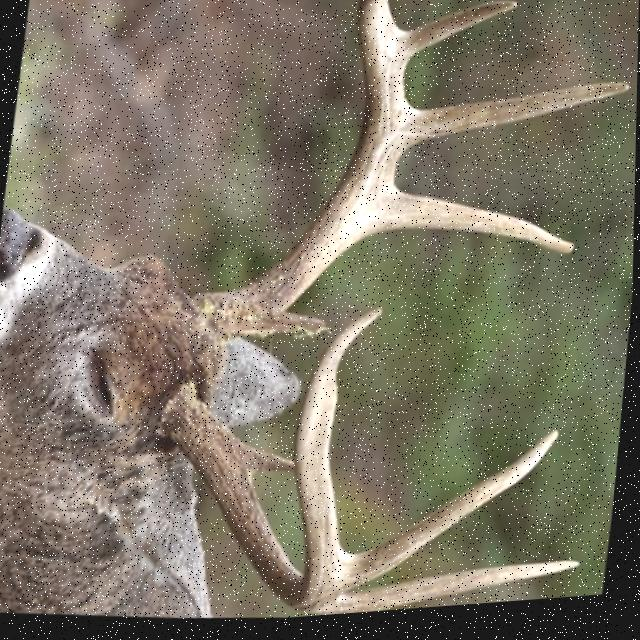L-F: (192, 0, 401, 338)
L-G1: (245, 314, 330, 342), (248, 447, 297, 476)
L-G2: (368, 188, 576, 262), (313, 568, 584, 620)
L-G3: (347, 436, 561, 595), (405, 90, 631, 155)
L-G4: (399, 6, 520, 67)
R-F: (162, 310, 384, 617)
